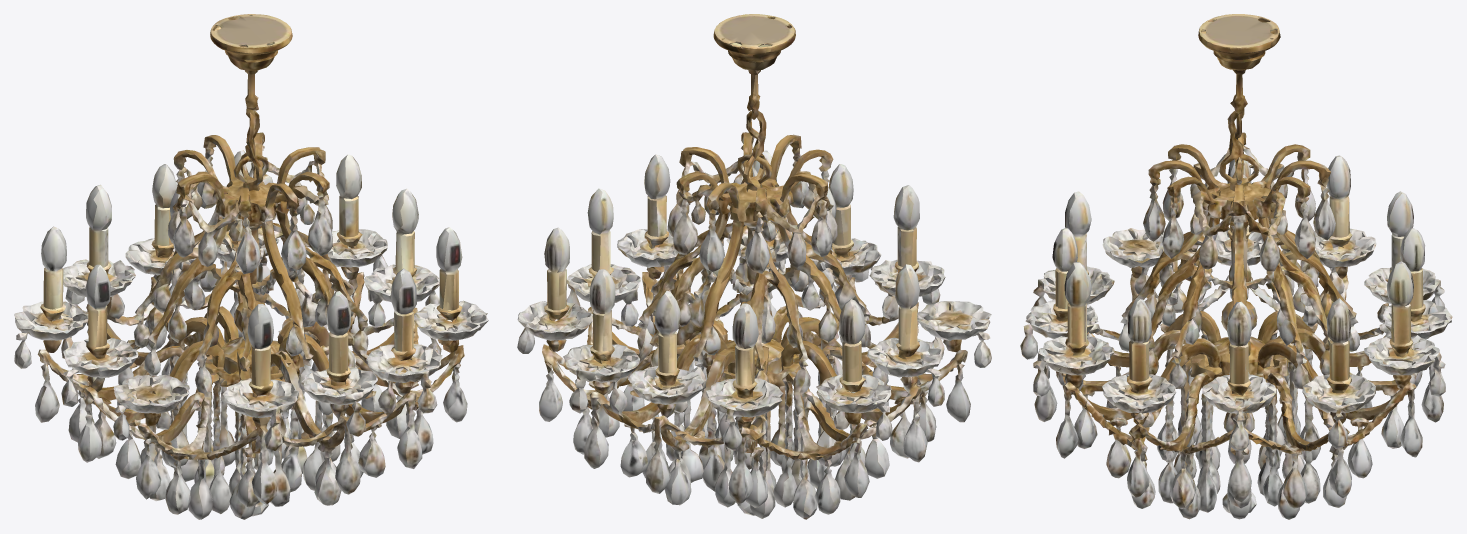
Rendered from aholo-20261119-crystal-chandelier.glb.
3 renders of one model, left to right at view 1: azimuth 30°, elevation 25°; view 2: azimuth 150°, elevation 25°; view 3: azimuth 270°, elevation 25°, orthographic.
Visible parts, largest first — view 1: geometry_0; view 2: geometry_0; view 3: geometry_0.
Part boxes in pixels (x1,y1,x2,y2): geometry_0: [14, 14, 488, 519]; geometry_0: [517, 14, 991, 519]; geometry_0: [1020, 14, 1452, 519].
Size of the model in its own units: 0.6159 by 0.75 by 0.6106.
1 material, 1 textured.
